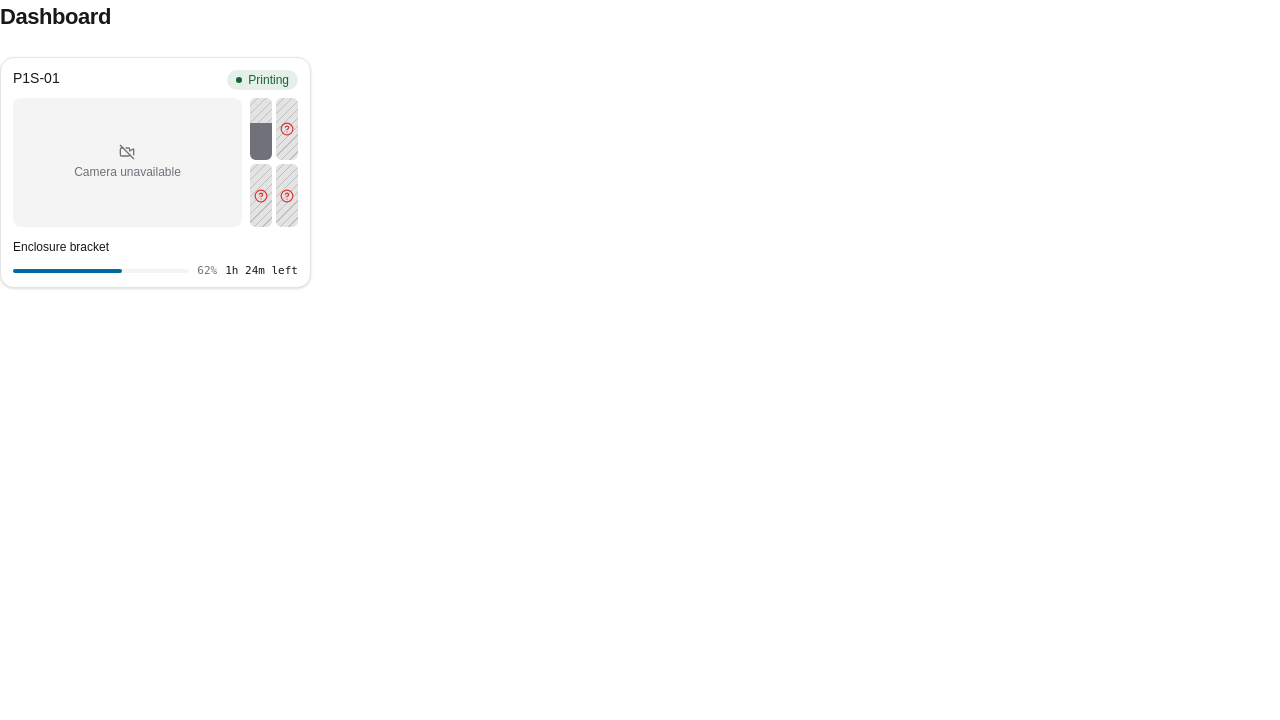
Test: Fixed compact dashboard › filament rail popover › opens the slot dialog for a loaded slot with its unload actions
Click the button named "AMS 1 · Slot 1:" at coordinates (261, 129), box [250,98,272,160]
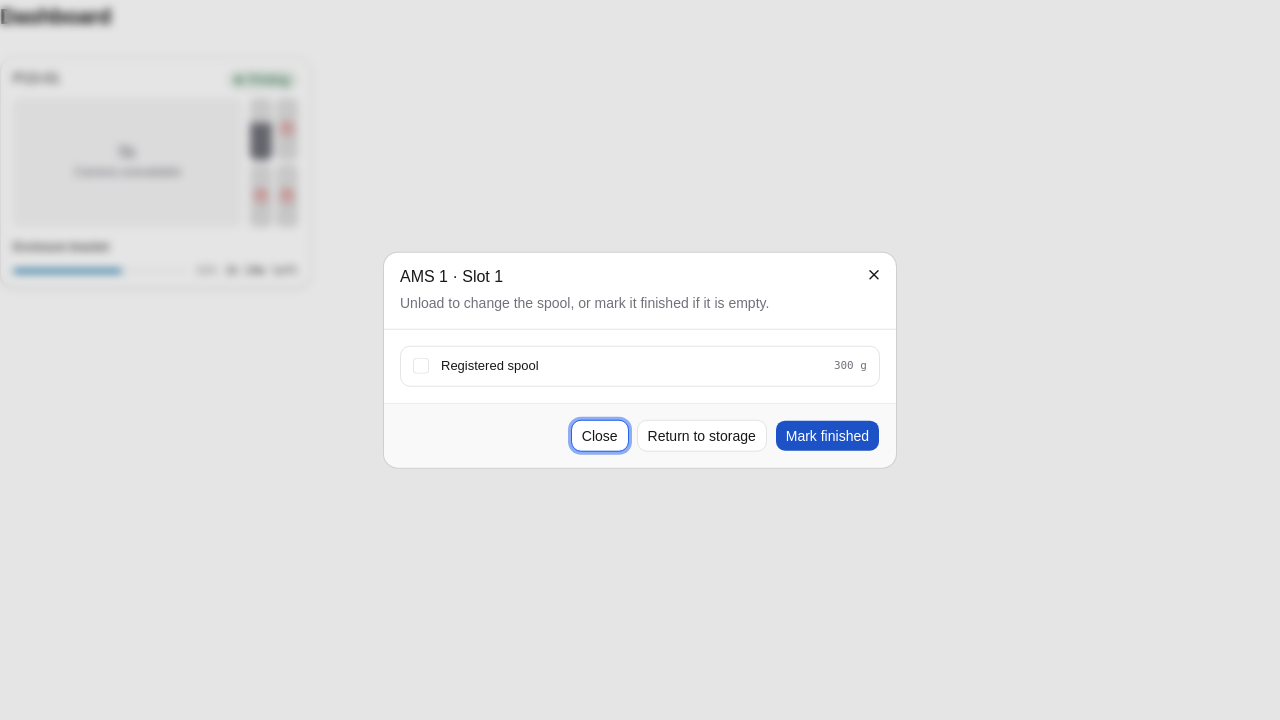
expect the button "Return to storage" is shown: met, box [637,419,767,451]
expect the button "Mark finished" is shown: met, box [775,419,880,451]
